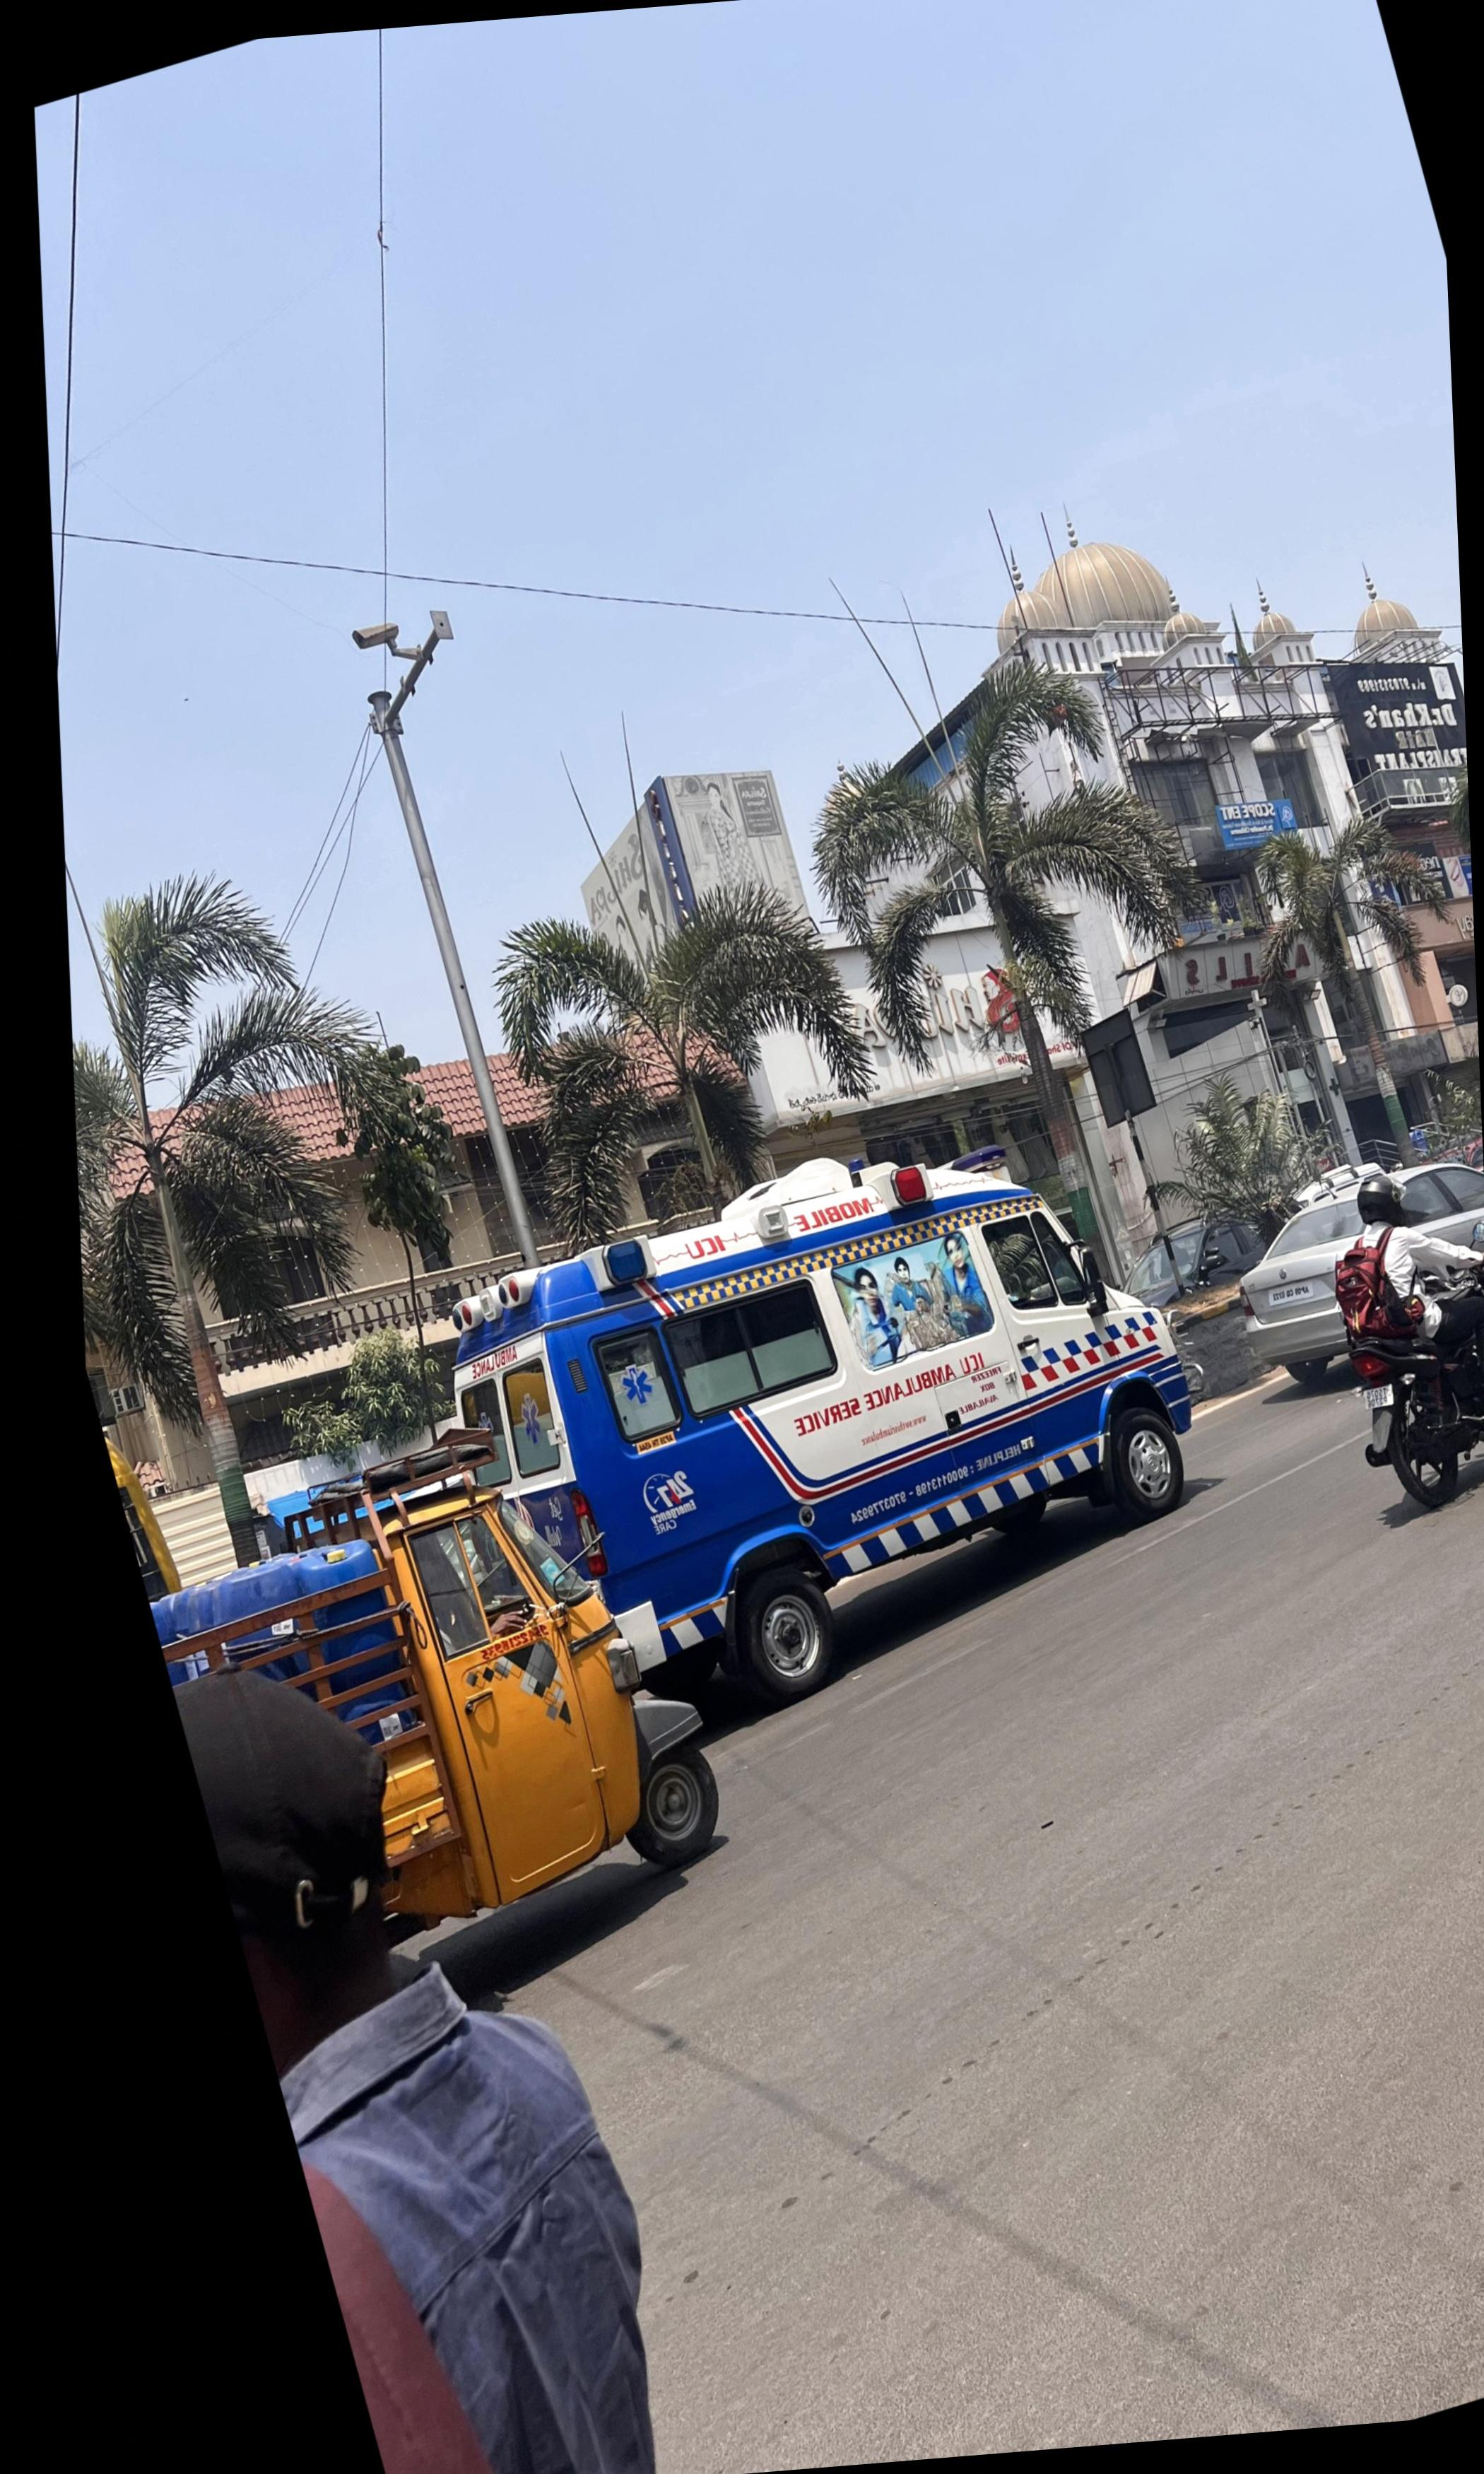ambulance: (452, 1147, 1192, 1696)
